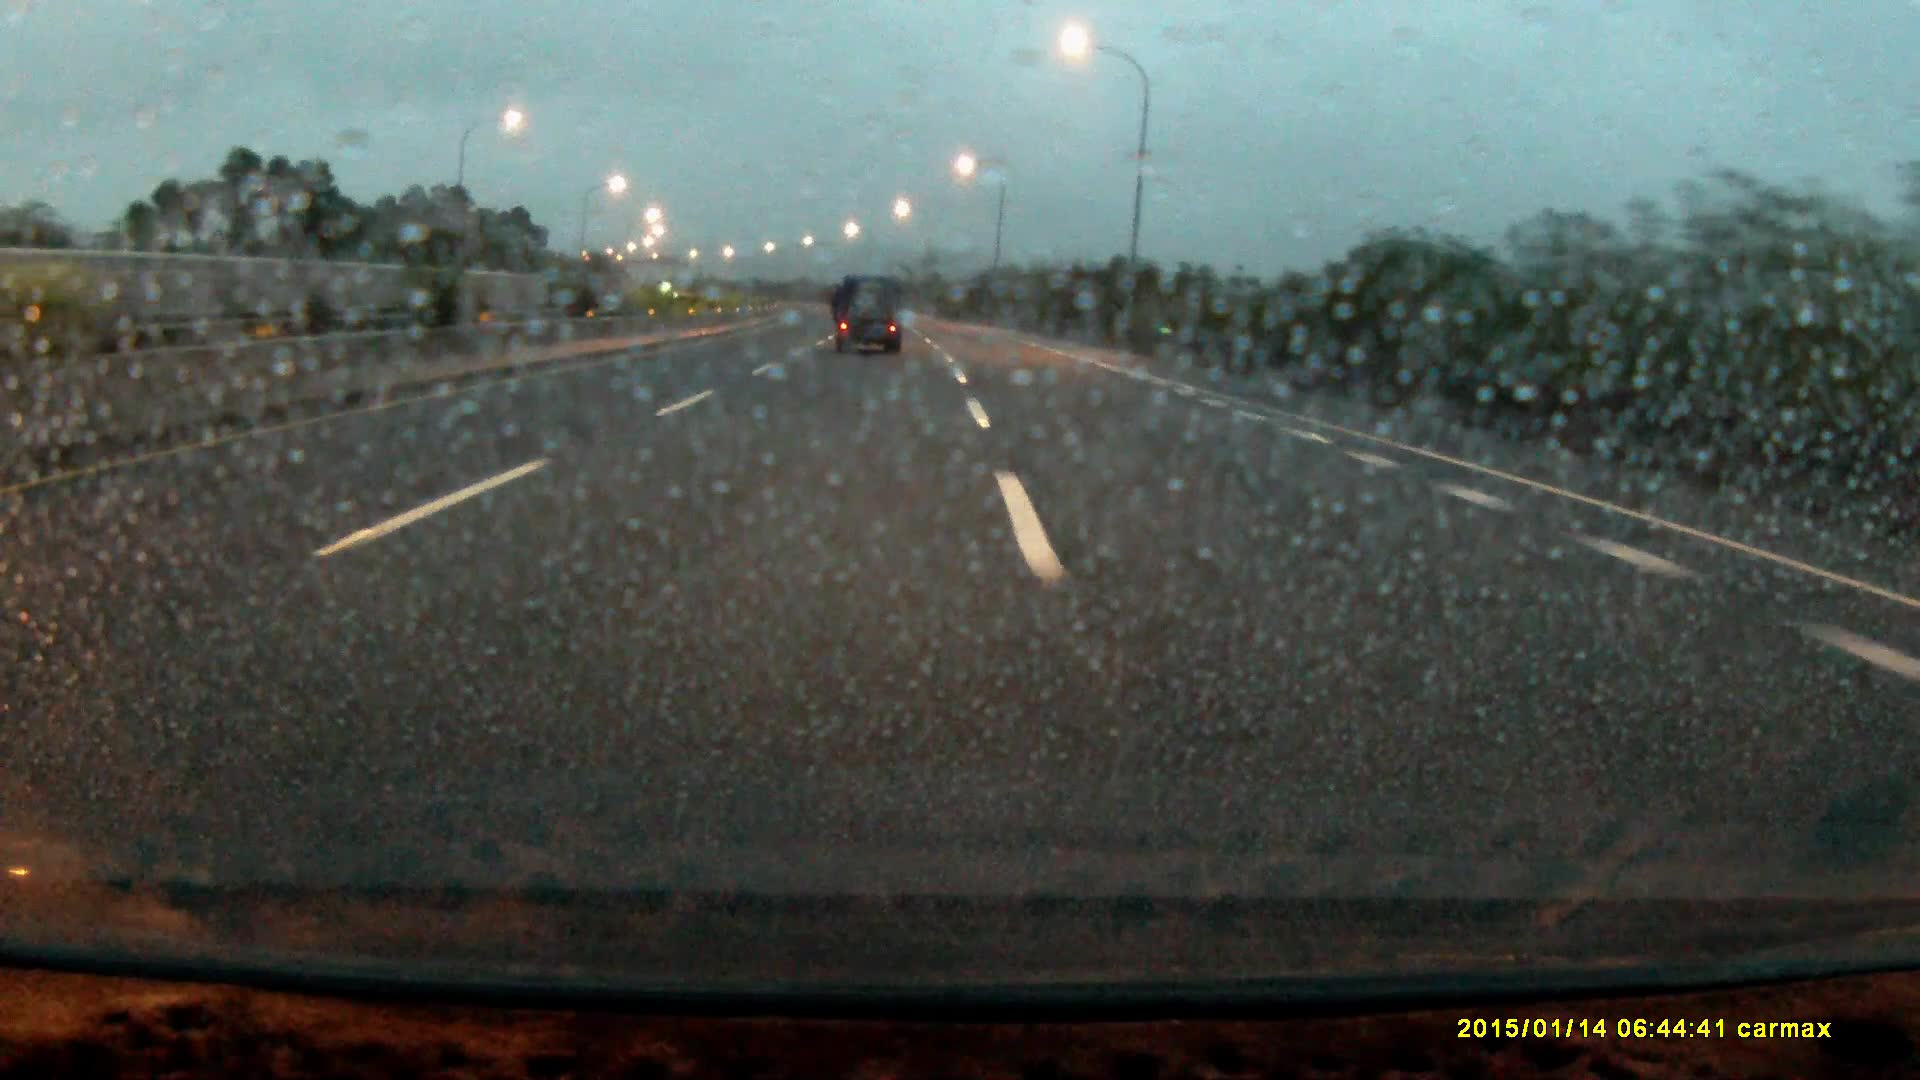vehicle: (833, 269, 906, 357)
